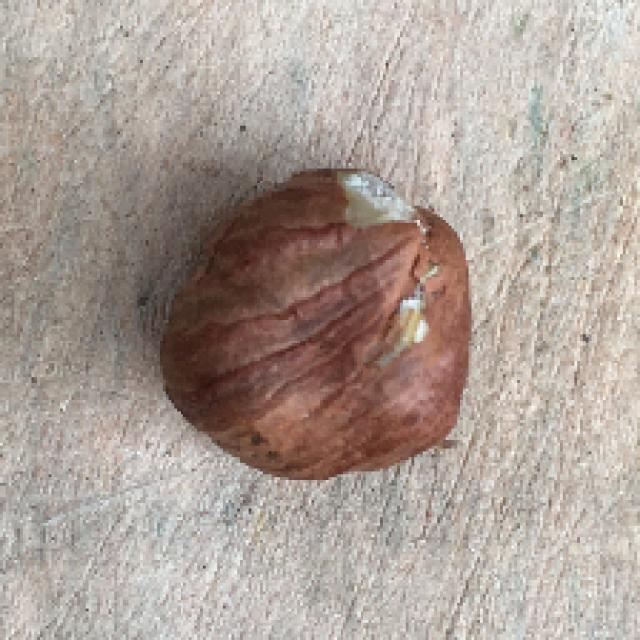hazelnut: (140, 157, 490, 476)
